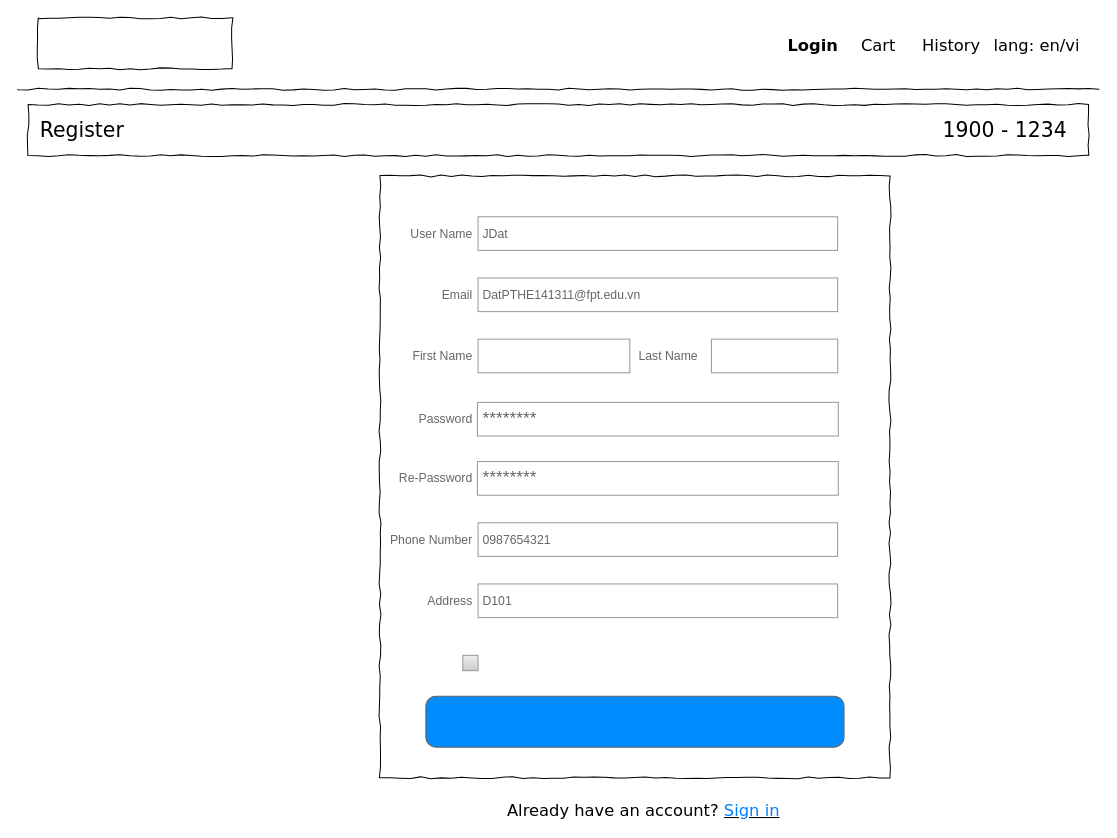
The diagram is 1117 pixels wide and 838 high, and some of its shapes have lost their labels. The shapes that lost their labels are listed below. From the top down, each one's centre as x and y in pixels, then its label:
At point (134, 43): "LOGO".
At point (553, 355): "Tien Dat".
At point (774, 355): "Pham".
At point (470, 662): "I accept the Terms of Use & Privacy Policy".
At point (634, 721): "Register Now".
